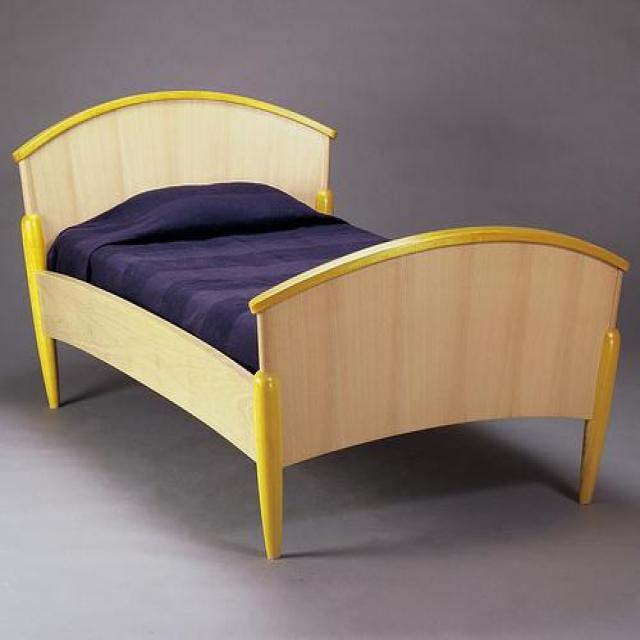bed: (10, 88, 631, 560)
